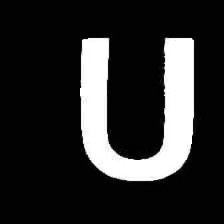LTR_U: (70, 18, 211, 196)
